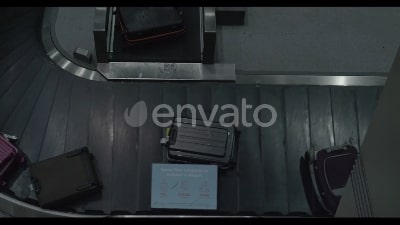baggage: (160, 114, 248, 171), (25, 147, 105, 207), (297, 144, 362, 213), (147, 165, 219, 211), (114, 9, 189, 46)
